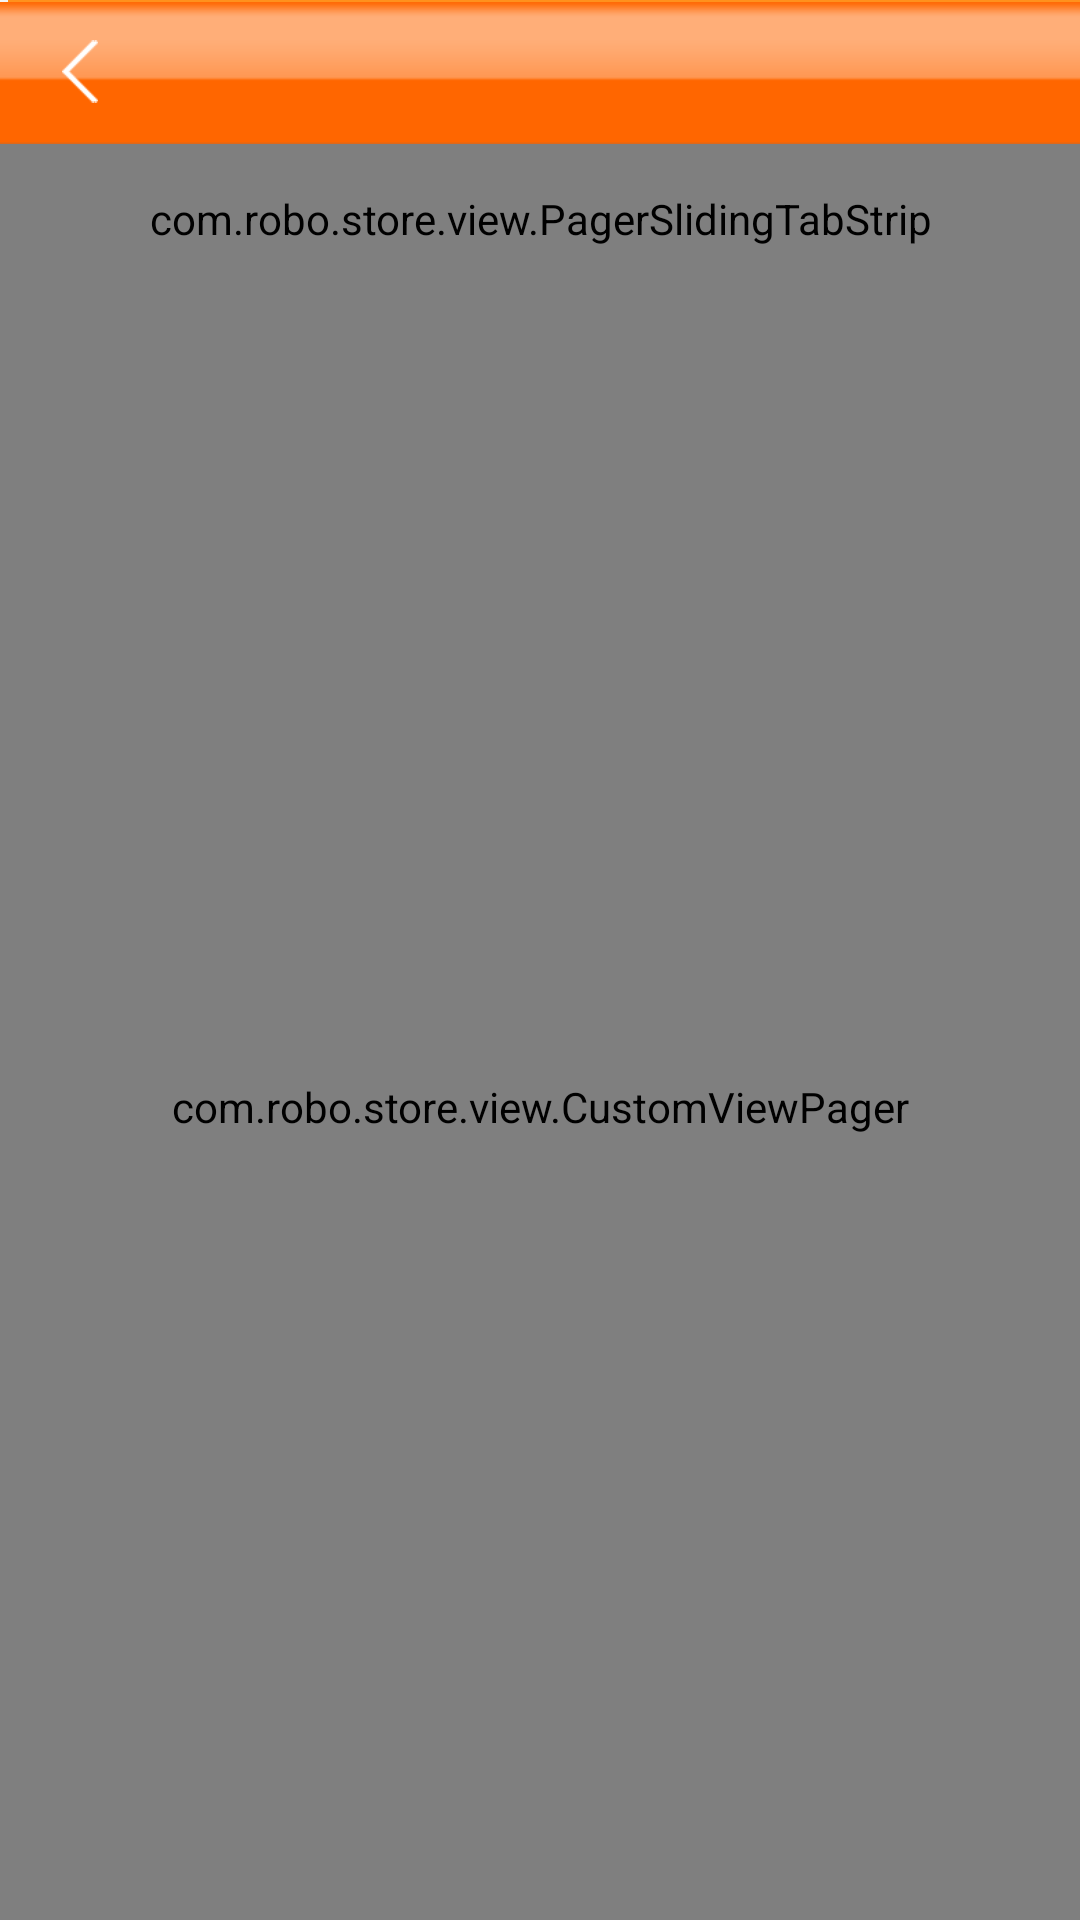

Icon click points for this 1080×1920 phone screenshot, format (x=x, y=y):
back: (x=80, y=71)
